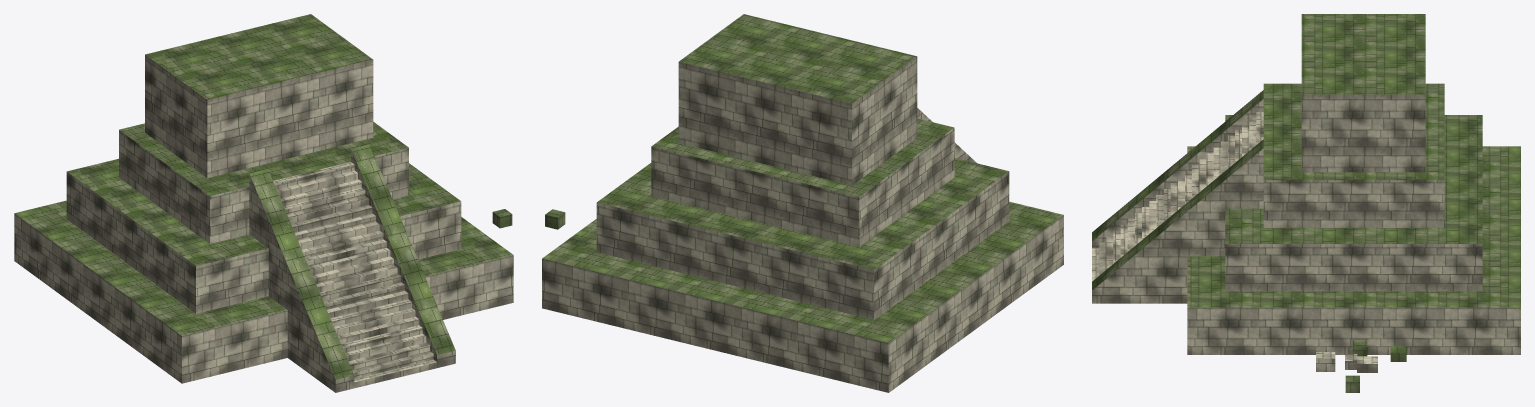
Rendered from ruin-temple-b.zfix-v11.lod1.glb.
3 renders of one model, left to right at view 1: azimuth 30°, elevation 25°; view 2: azimuth 150°, elevation 25°; view 3: azimuth 270°, elevation 25°, orthographic. The views are drawn at different scales.
Visible parts, largest first — view 1: ruin-temple-b; view 2: ruin-temple-b; view 3: ruin-temple-b.
Boxes of the visible parts, x1,y1,x2,y2 form: ruin-temple-b: [14, 14, 513, 392]; ruin-temple-b: [542, 14, 1063, 392]; ruin-temple-b: [1092, 14, 1520, 392].
Bounding box in the file's own units: 19.77 × 10.2 × 18.
Materials: 2 (2 with a texture image).
